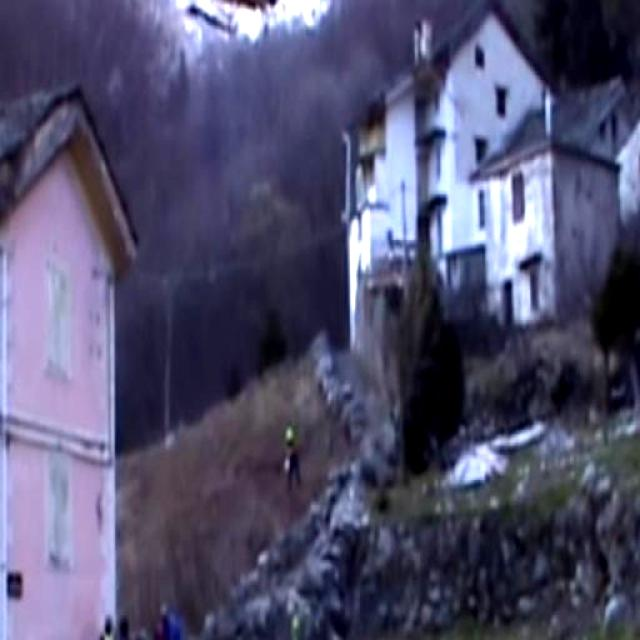drone: (105, 0, 284, 56)
